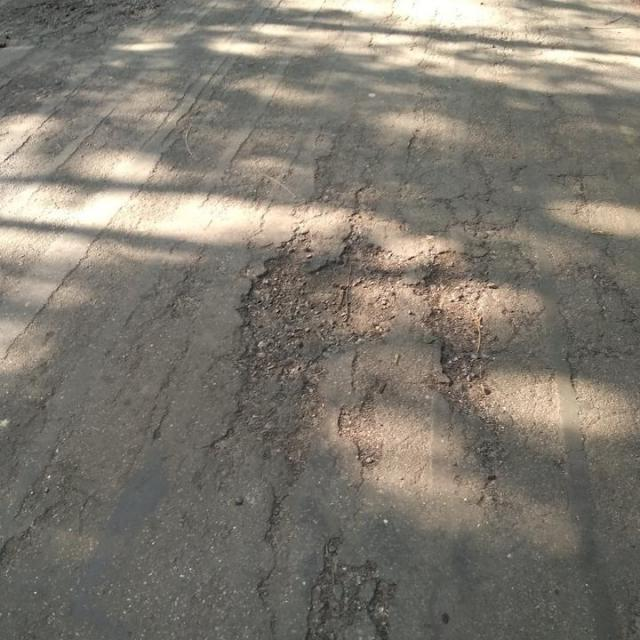pothole: (236, 228, 414, 377), (245, 229, 401, 387), (415, 246, 507, 406), (423, 246, 499, 401)
